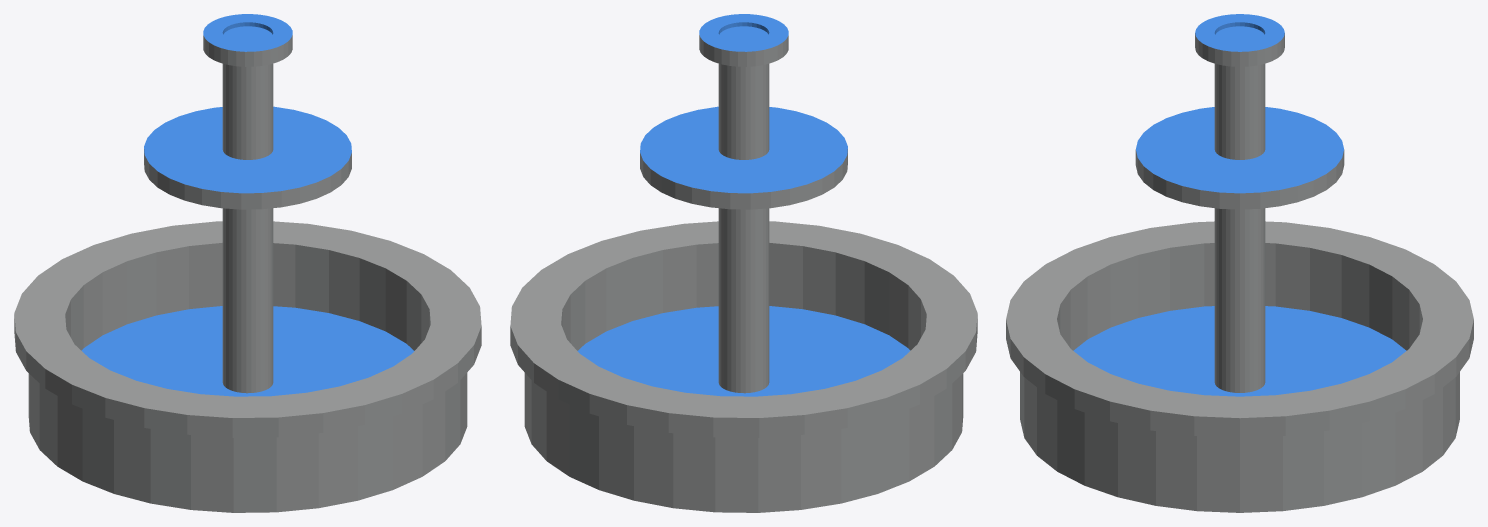
The model's file is voltijn.fbx.
3 renders of one model, left to right at view 1: azimuth 30°, elevation 25°; view 2: azimuth 150°, elevation 25°; view 3: azimuth 270°, elevation 25°, orthographic.
Parts seen in each view (by area): view 1: Cylinder; view 2: Cylinder; view 3: Cylinder.
Boxes of the visible parts, <box> form: Cylinder: <box>14,14,481,512</box>; Cylinder: <box>510,14,977,512</box>; Cylinder: <box>1006,14,1473,512</box>.
Size of the model in its own units: 1210 by 1104 by 1210.
